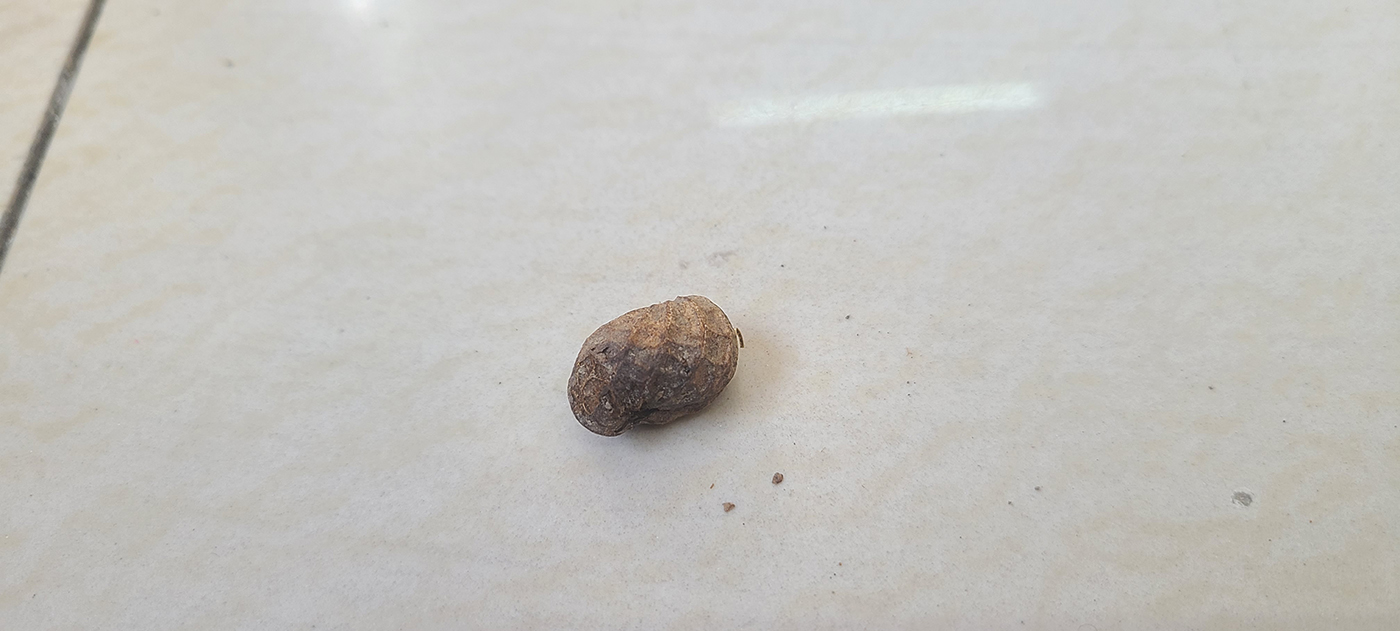l: (562, 294, 743, 436)
